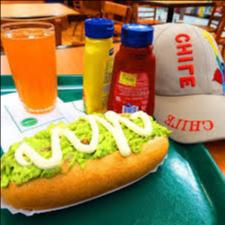Completos: (0, 107, 154, 209)
